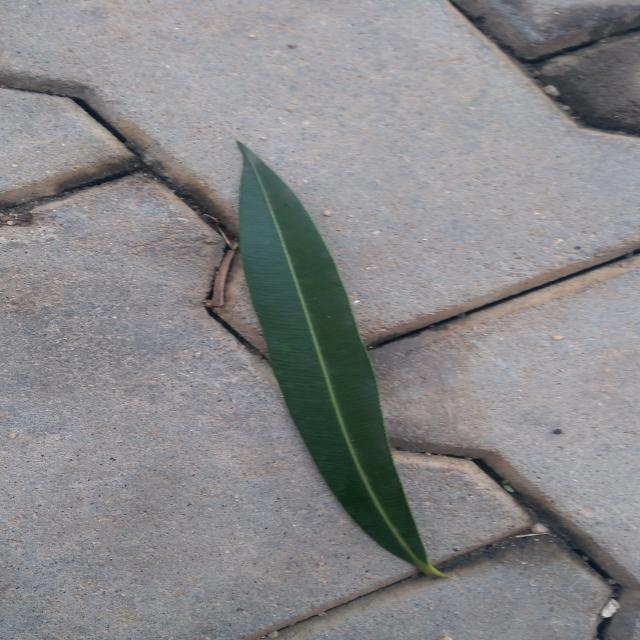ganigale: (238, 141, 444, 578)
